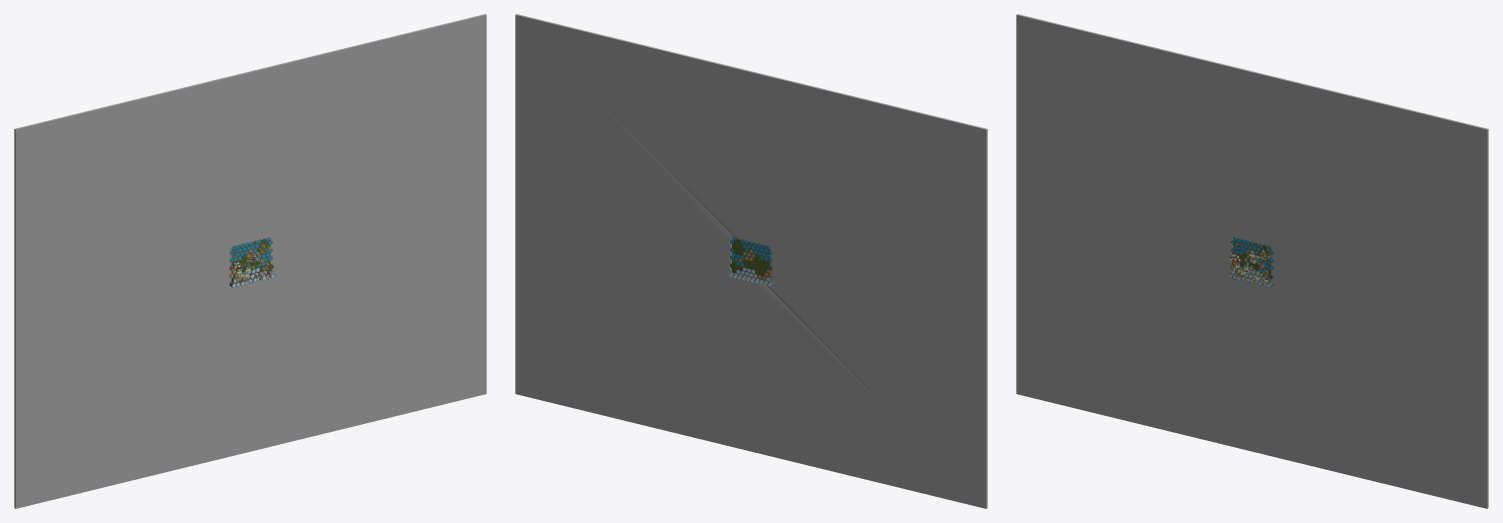
The model's file is stage2.fbx.
3 renders of one model, left to right at view 1: azimuth 30°, elevation 25°; view 2: azimuth 150°, elevation 25°; view 3: azimuth 330°, elevation 25°, orthographic.
Parts seen in each view (by area): view 1: pCylinder42, map; view 2: pCylinder42, map; view 3: pCylinder42, map.
Boxes of the visible parts, x1,y1,x2,y2 form: pCylinder42: (14, 14, 486, 508); map: (229, 237, 272, 288); pCylinder42: (515, 14, 987, 508); map: (729, 237, 772, 285); pCylinder42: (1016, 14, 1488, 508); map: (1228, 237, 1273, 281).
Size of the model in its own units: 189 by 146 by 4.58.
